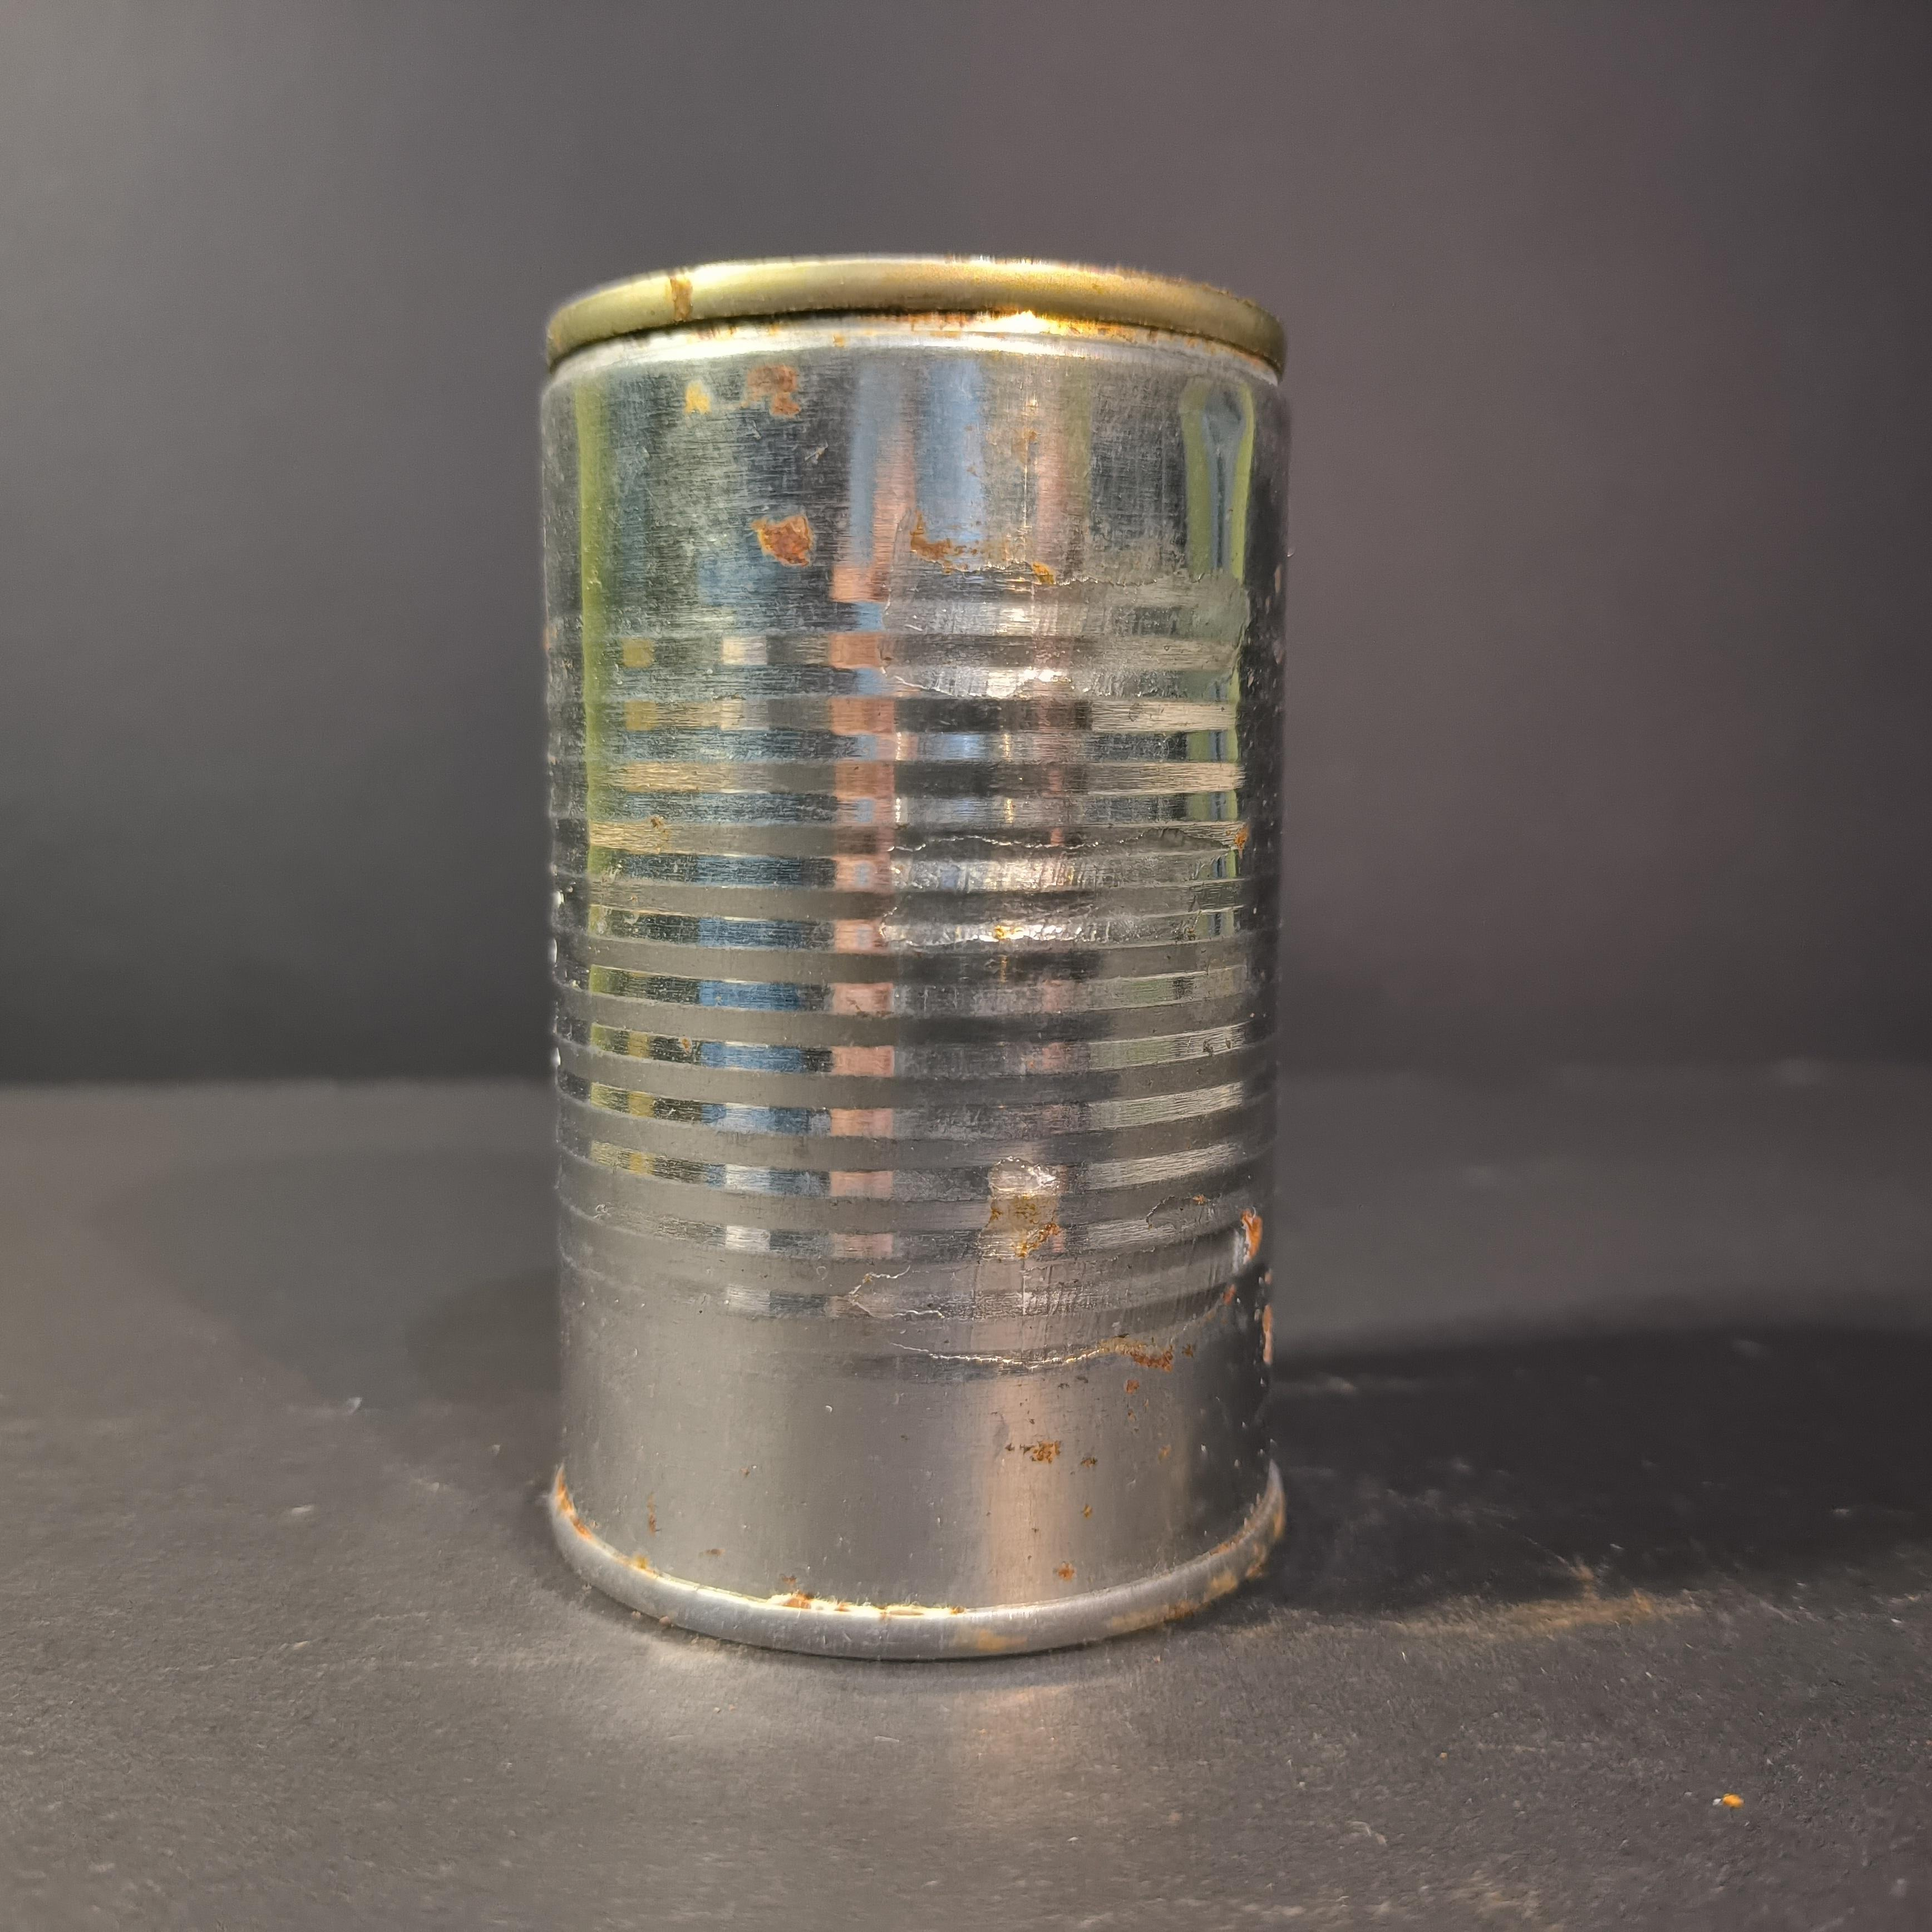Rusted: (524, 218, 1325, 1661)
